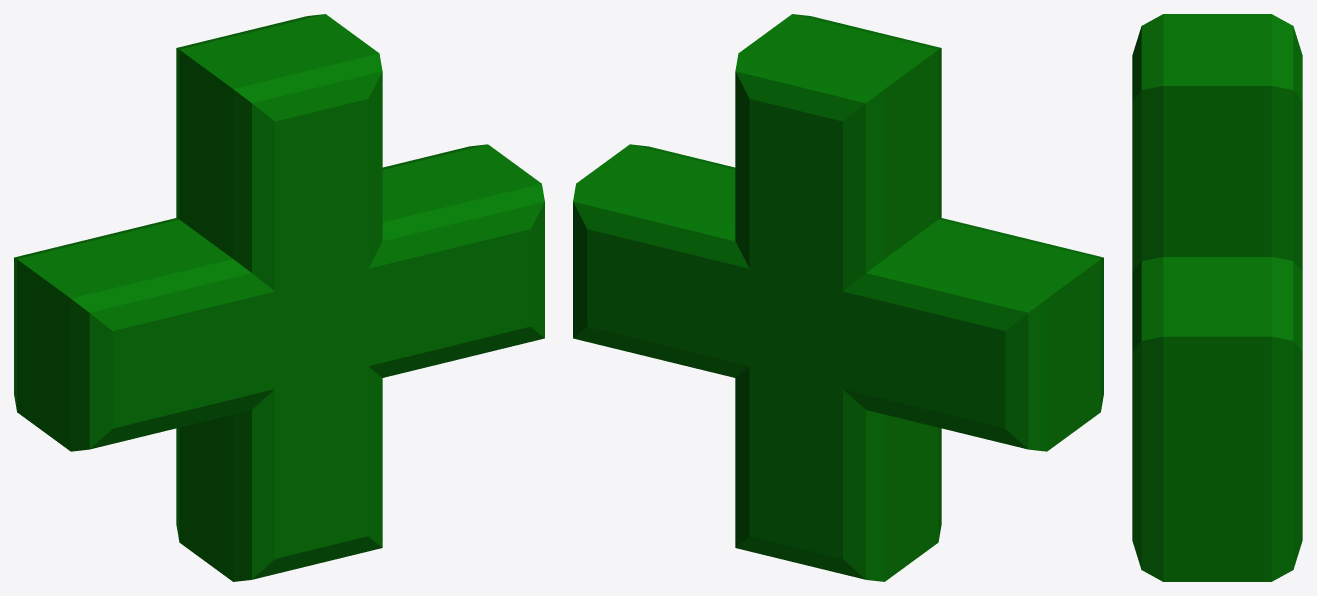
Rendered from health.fbx.
3 views of the same model, side by side, from view 1: azimuth 30°, elevation 25°; view 2: azimuth 150°, elevation 25°; view 3: azimuth 270°, elevation 25° (orthographic).
Visible parts, largest first — view 1: Cube; view 2: Cube; view 3: Cube.
Boxes of the visible parts, x1,y1,x2,y2 form: Cube: (14,14,544,581); Cube: (573,14,1103,581); Cube: (1132,14,1302,581).
Size of the model in its own units: 338 by 338 by 105.
